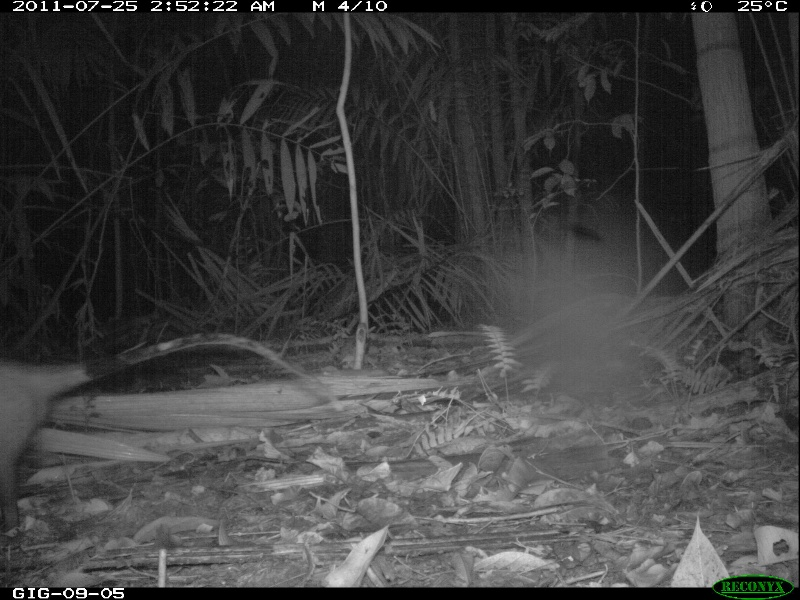opossum: (1, 332, 343, 551)
